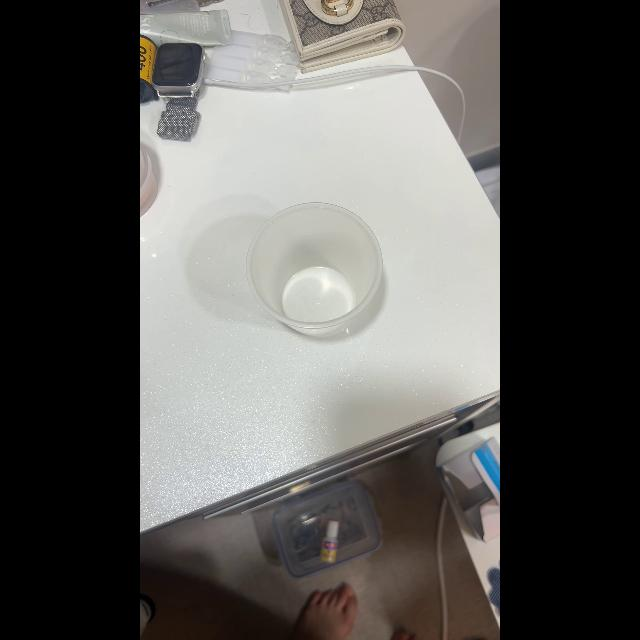clean: (244, 202, 386, 338)
